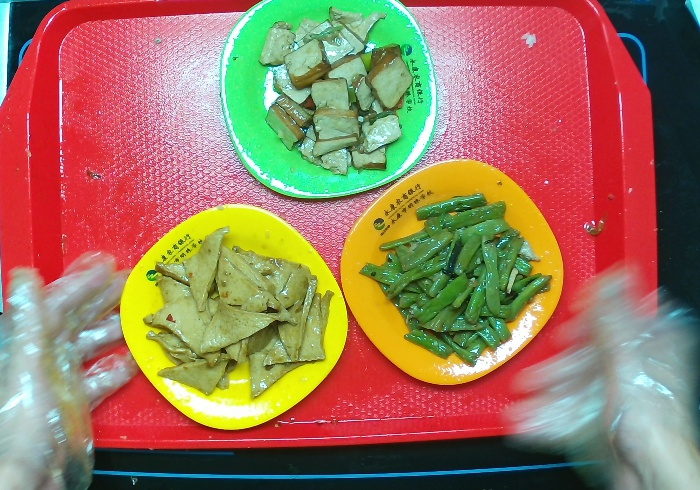YKMZ-Huang_Se_Fang_Die: (117, 203, 349, 431)
YKMZ-Ju_Se_Fang_Die: (341, 158, 565, 389)
YKMZ-Lv_Se_Fang_Die: (215, 1, 442, 203)
